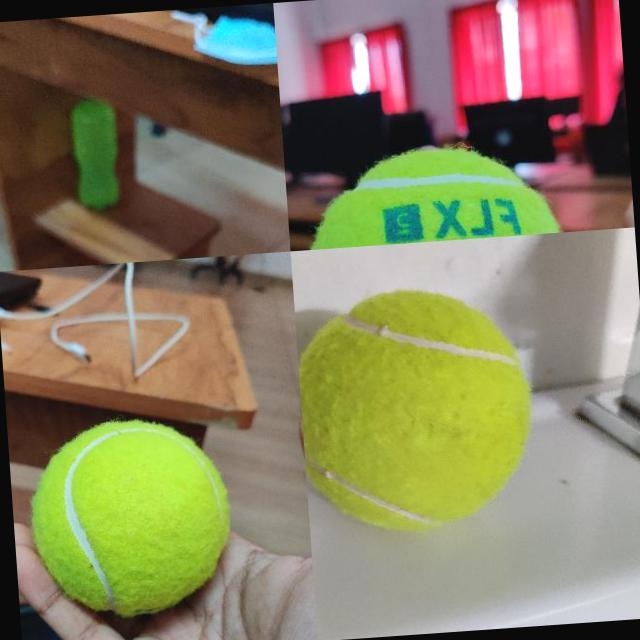Tennis Ball: (294, 278, 544, 542), (25, 414, 235, 620), (298, 140, 566, 249)
